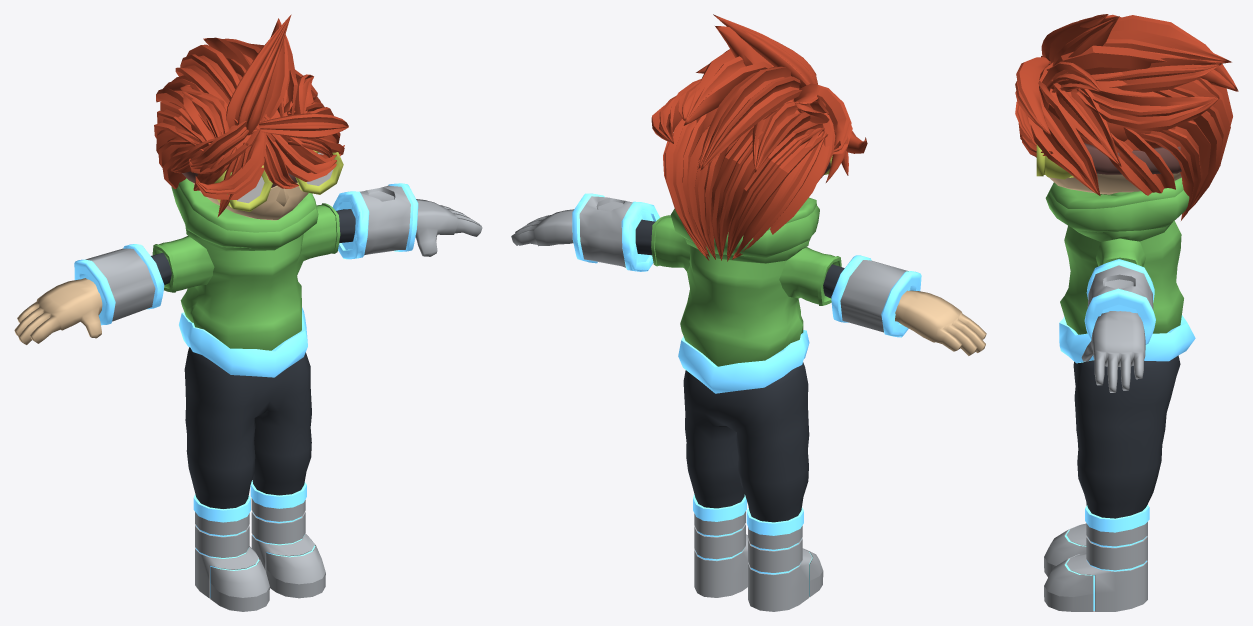
Rendered from ChloeFinal.fbx.
The picture shows the model from 3 angles, left to right: view 1: azimuth 30°, elevation 25°; view 2: azimuth 150°, elevation 25°; view 3: azimuth 270°, elevation 25°; orthographic projection. The views are drawn at different scales.
Parts seen in each view (by area): view 1: hair, Legs, Corpo, Boots, Gloves, Hand, oculos, Cabeça; view 2: hair, Legs, Corpo, Boots, Gloves, Hand; view 3: hair, Legs, Corpo, Boots, Gloves, Hand, Cabeça, oculos.
Boxes of the visible parts, <box> form: hair: <box>154,14,348,217</box>; Legs: <box>179,307,311,508</box>; Corpo: <box>152,178,340,350</box>; Boots: <box>193,480,325,611</box>; Gloves: <box>74,183,418,325</box>; Hand: <box>14,199,482,344</box>; oculos: <box>182,150,343,211</box>; Cabeça: <box>180,106,308,220</box>; hair: <box>651,14,867,261</box>; Legs: <box>678,330,809,522</box>; Corpo: <box>651,197,841,366</box>; Boots: <box>693,494,823,611</box>; Gloves: <box>572,193,921,337</box>; Hand: <box>511,209,986,355</box>; hair: <box>1015,14,1238,220</box>; Legs: <box>1059,315,1195,518</box>; Corpo: <box>1045,177,1189,334</box>; Boots: <box>1044,503,1149,611</box>; Gloves: <box>1084,259,1155,344</box>; Hand: <box>1081,311,1145,392</box>; Cabeça: <box>1036,72,1181,194</box>; oculos: <box>1036,143,1181,179</box>.
Bounding box in the file's own units: 516 × 597 × 205.
